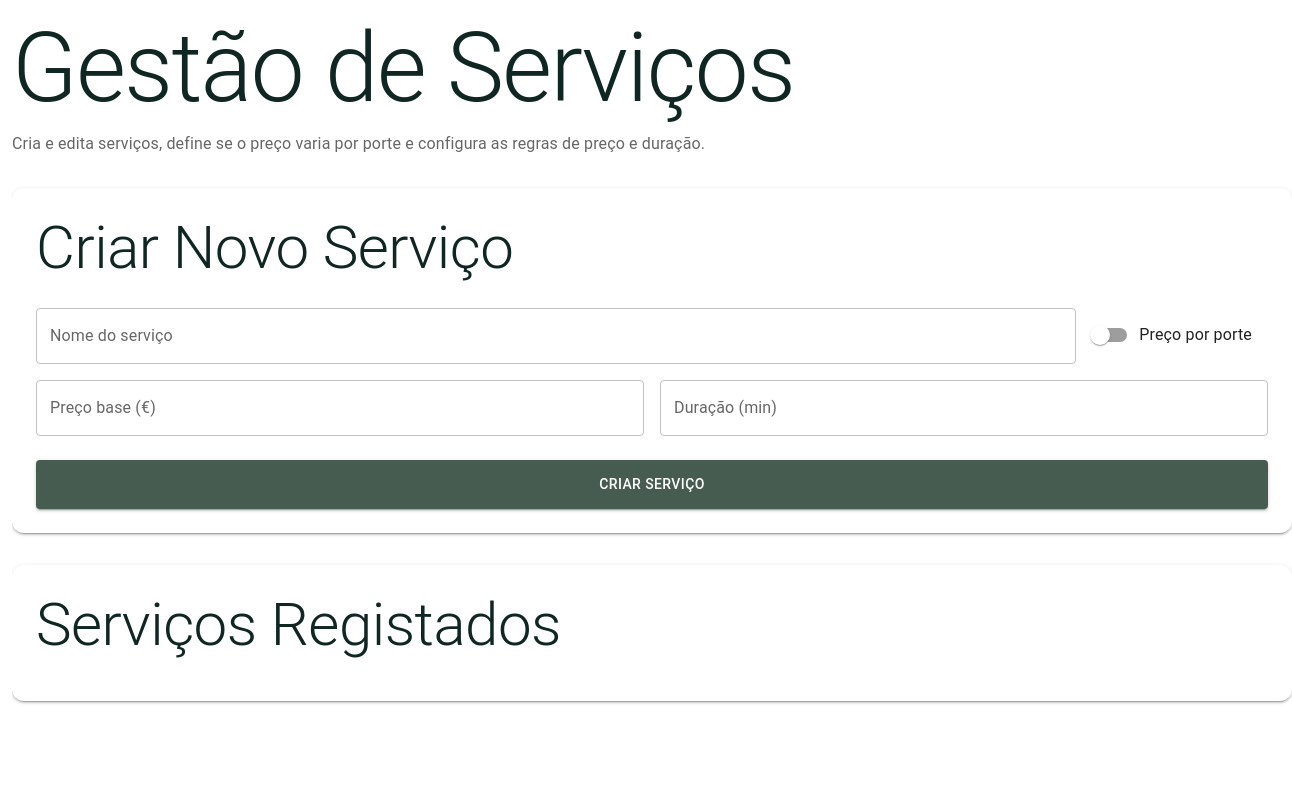
Test: ServicosPage — validação do formulário › mostra erro quando nome está vazio
Click the button "Criar Serviço" at (652, 484), box [36,460,1268,508]
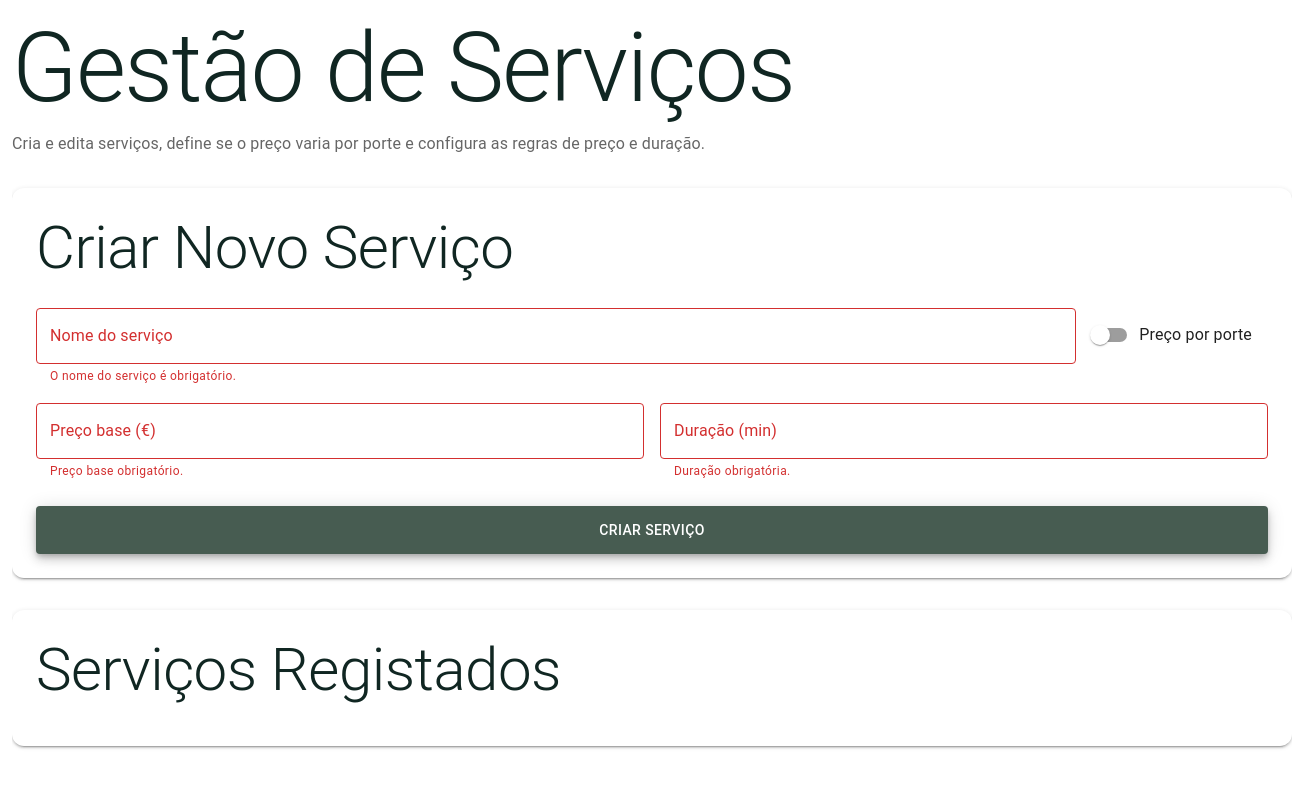
Expected: the text "O nome do serviço é obrigatório." is shown, [50,369,236,383]
